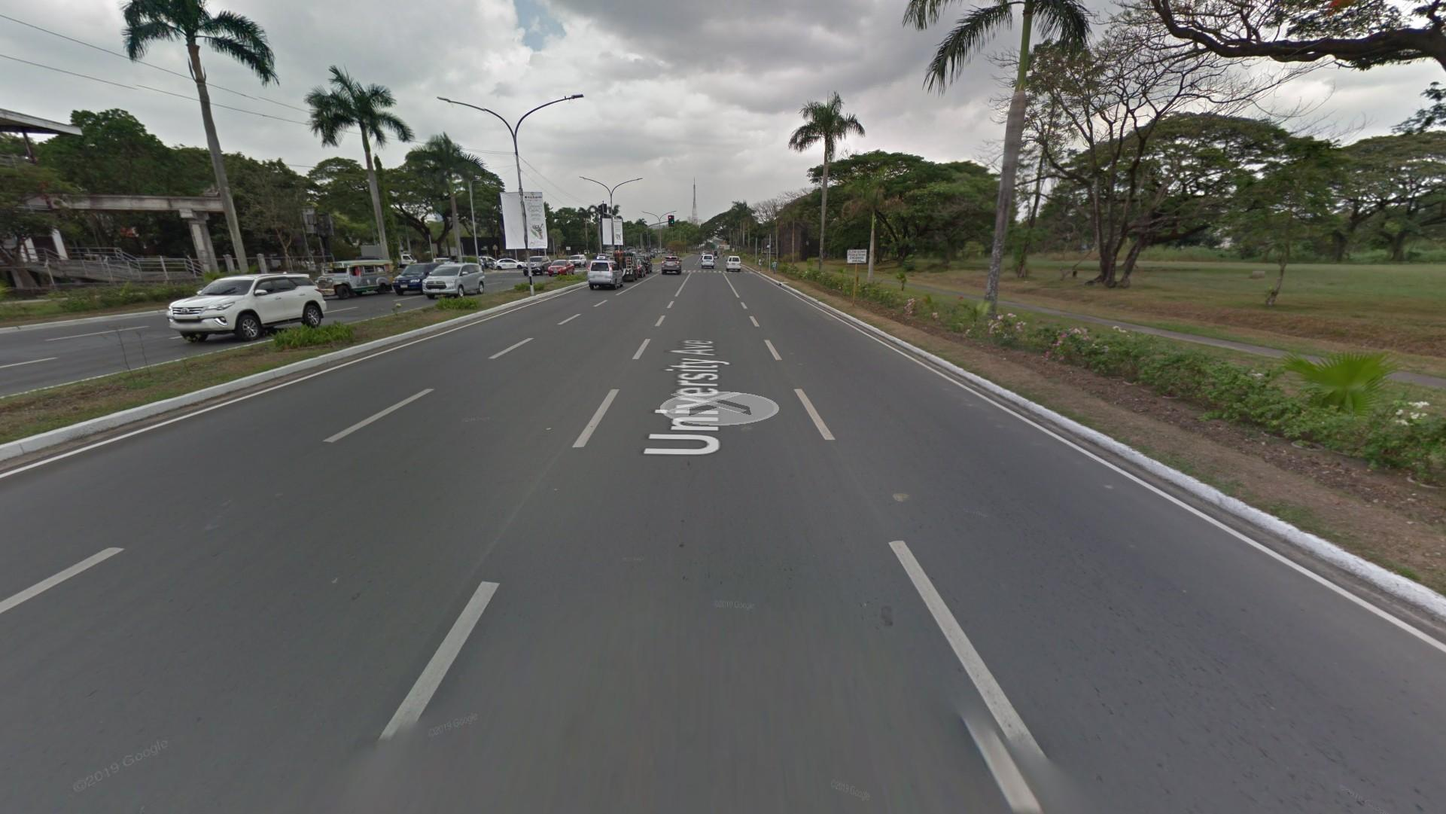pedestrian: (757, 256, 763, 272), (771, 261, 777, 275), (721, 251, 726, 260)
